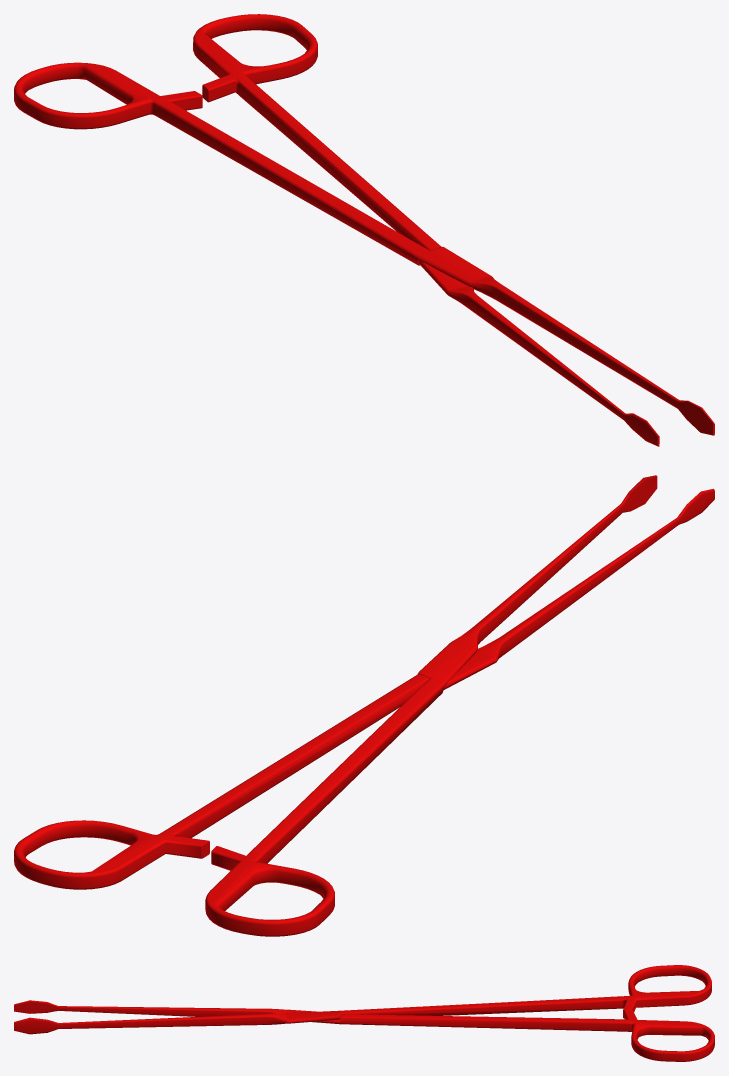
The model's file is Medical_instrument_8.fbx.
The picture shows the model from 3 angles, top to bottom: view 1: azimuth 30°, elevation 25°; view 2: azimuth 150°, elevation 25°; view 3: azimuth 270°, elevation 25°; orthographic projection. The views are drawn at different scales.
Parts seen in each view (by area): view 1: L38:polySurface1416; view 2: L38:polySurface1416; view 3: L38:polySurface1416.
Part boxes in pixels (box(x1,y1,x2,y2)): L38:polySurface1416: box(14, 14, 714, 446); L38:polySurface1416: box(14, 475, 714, 936); L38:polySurface1416: box(14, 965, 714, 1061).
Size of the model in its own units: 14.21 by 1.21 by 46.58.
